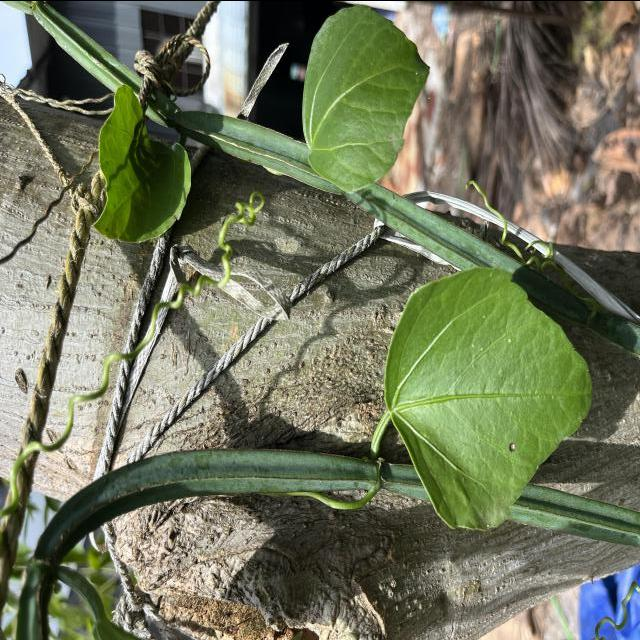Cissus quadrangularis: (381, 262, 595, 532), (298, 0, 432, 196)
